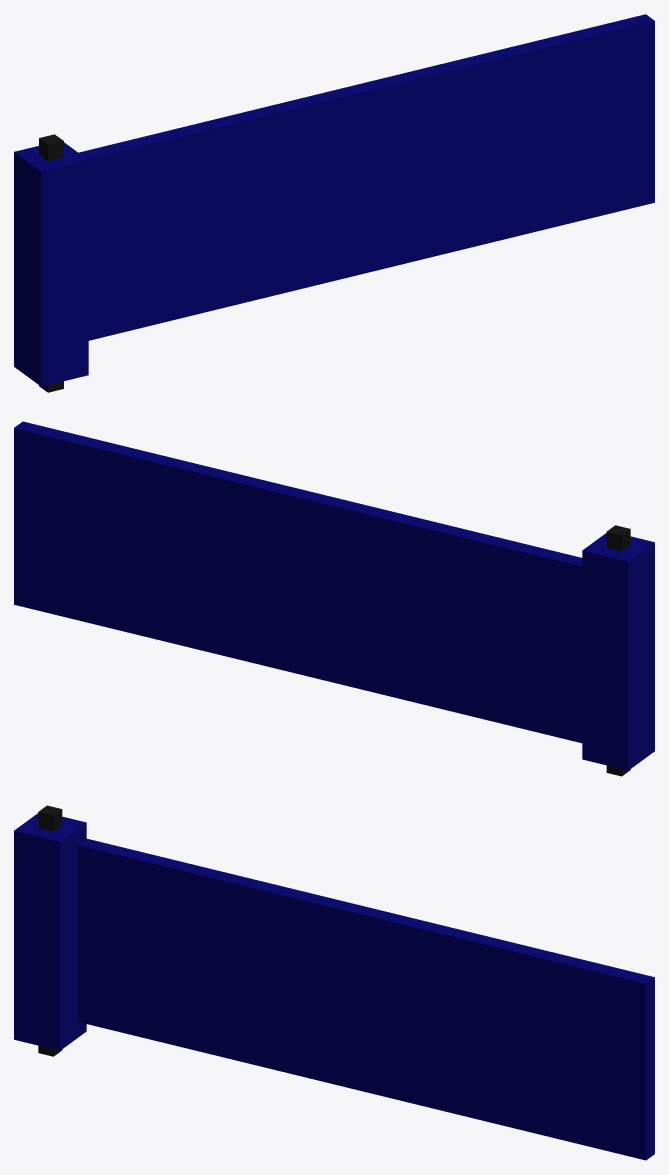
File: makimono.obj
3 renders of one model, top to bottom at view 1: azimuth 30°, elevation 25°; view 2: azimuth 150°, elevation 25°; view 3: azimuth 330°, elevation 25°, orthographic. The views are drawn at different scales.
Size of the model in its own units: 4 by 1.5 by 0.3.
1 material, 1 textured.
